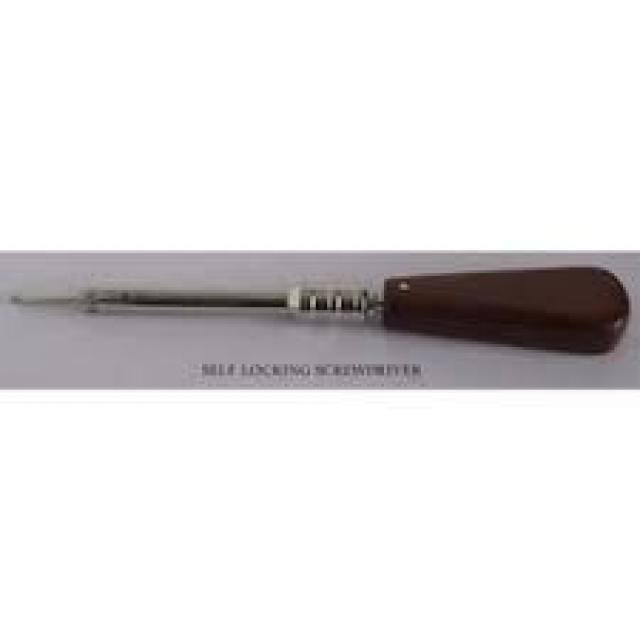screwdriver: (0, 262, 640, 364)
